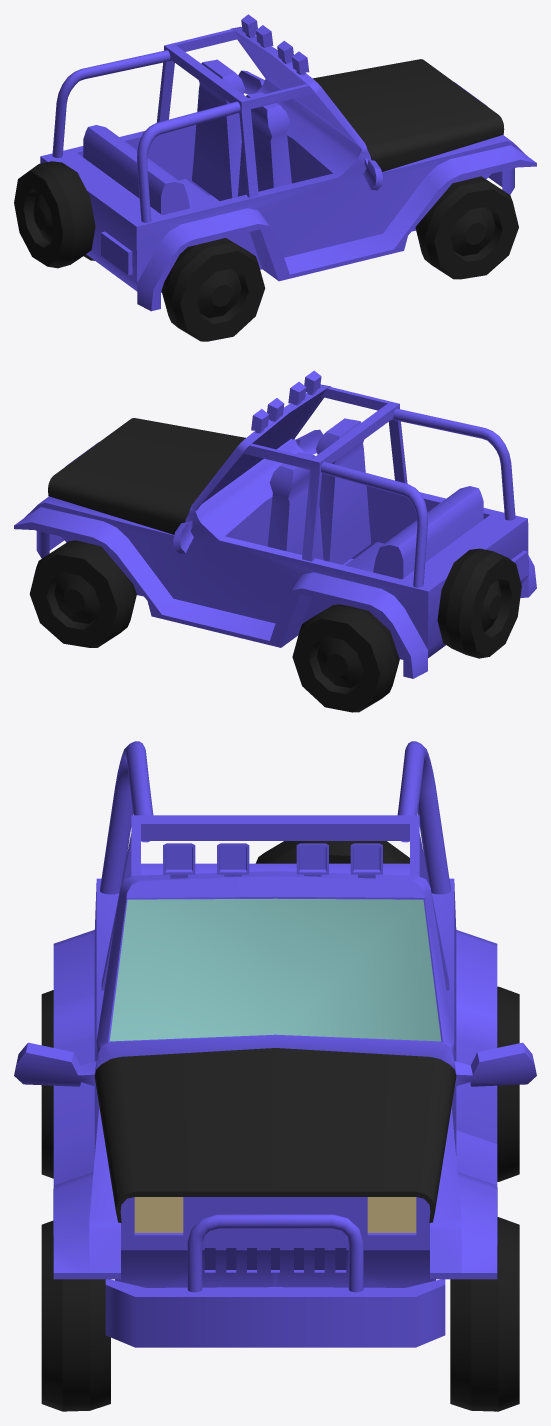
Rendered from car.glb.
The picture shows the model from 3 angles, top to bottom: view 1: azimuth 30°, elevation 25°; view 2: azimuth 150°, elevation 25°; view 3: azimuth 270°, elevation 25°; orthographic projection. The views are drawn at different scales.
Visible parts, largest first — view 1: Body, Tyres, Bonnet, Tyres.001; view 2: Body, Tyres, Bonnet, Tyres.001; view 3: Body, Bonnet, Glass, Tyres, Head_lights, Tyres.001.
Part boxes in pixels (<box>): Body: <box>40,14,536,311</box>; Tyres: <box>83,176,518,341</box>; Bonnet: <box>313,59,504,171</box>; Tyres.001: <box>14,161,95,268</box>; Body: <box>14,370,536,678</box>; Tyres: <box>29,540,399,712</box>; Bonnet: <box>48,418,245,534</box>; Tyres.001: <box>437,548,521,658</box>; Body: <box>14,741,536,1347</box>; Bonnet: <box>94,1048,456,1222</box>; Glass: <box>109,898,441,1041</box>; Tyres: <box>41,986,519,1411</box>; Head_lights: <box>134,1197,416,1232</box>; Tyres.001: <box>255,841,409,863</box>.
Size of the model in its own units: 2.8 by 1.48 by 1.62.
